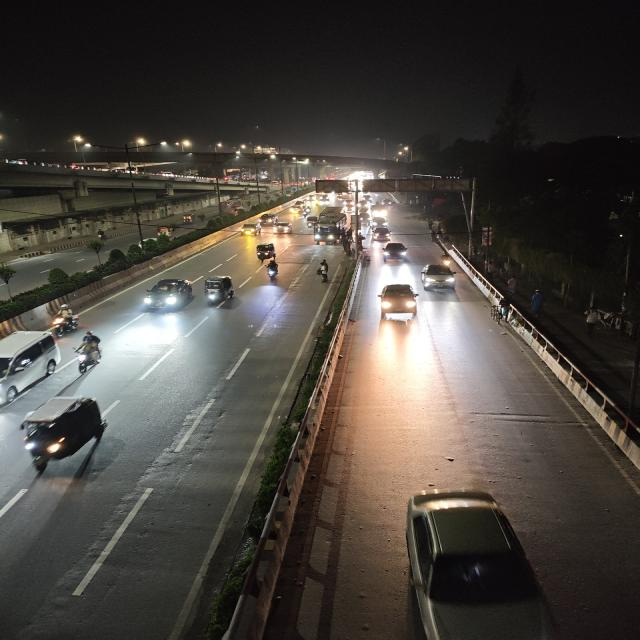bus: (312, 210, 348, 246)
car: (396, 483, 558, 640), (0, 326, 61, 410), (139, 275, 196, 317), (374, 282, 422, 324), (418, 262, 461, 294), (381, 240, 410, 264), (370, 226, 395, 244), (270, 221, 294, 235)
cng: (17, 392, 109, 478), (200, 273, 237, 309), (252, 241, 282, 264), (237, 222, 262, 238), (271, 221, 294, 235), (155, 224, 178, 238)
motorcycle: (72, 332, 107, 374), (50, 305, 82, 338), (261, 258, 282, 283), (438, 250, 454, 265)
pedestrian: (314, 258, 332, 283)
